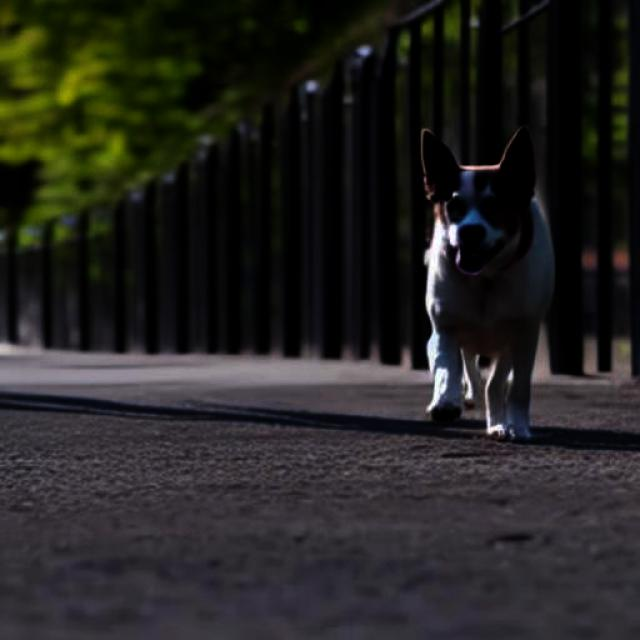Dog: (419, 126, 555, 444)
